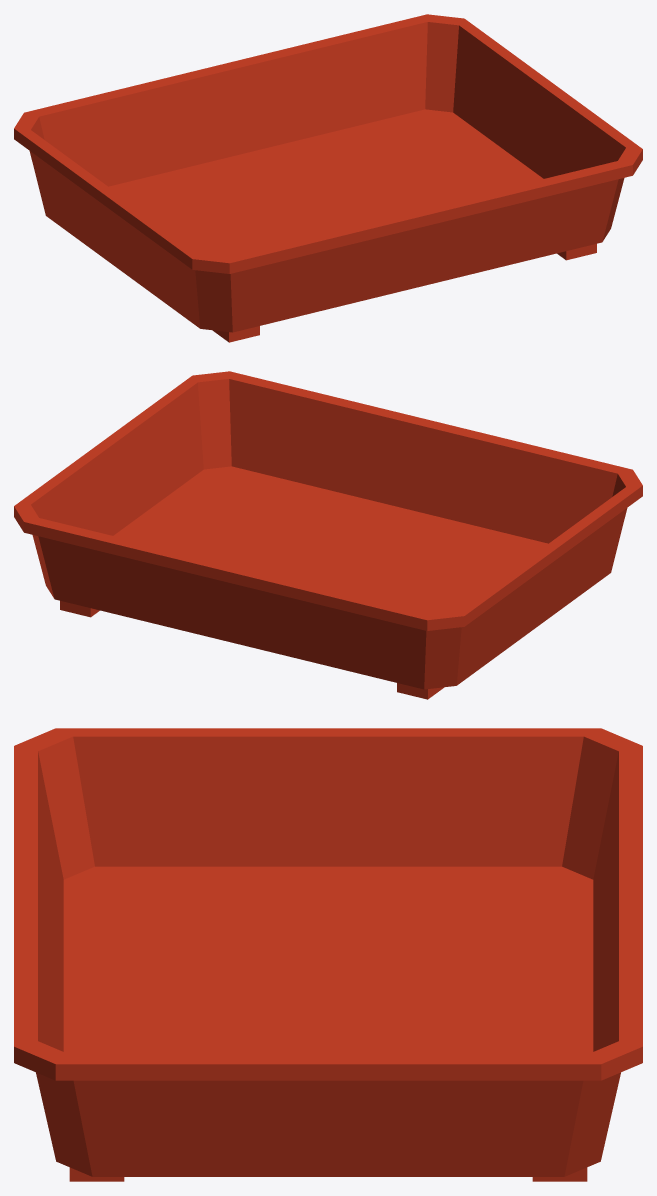
Rendered from SM_Cook_HerbTray_Red_01.glb.
3 views of the same model, one above another, from view 1: azimuth 30°, elevation 25°; view 2: azimuth 150°, elevation 25°; view 3: azimuth 270°, elevation 25° (orthographic). The views are drawn at different scales.
Visible parts, largest first — view 1: SM_Cook_HerbTray_Red_01; view 2: SM_Cook_HerbTray_Red_01; view 3: SM_Cook_HerbTray_Red_01.
Boxes of the visible parts, <box> form: SM_Cook_HerbTray_Red_01: <box>14,14,642,342</box>; SM_Cook_HerbTray_Red_01: <box>14,371,642,699</box>; SM_Cook_HerbTray_Red_01: <box>14,728,642,1181</box>.
Size of the model in its own units: 0.4374 by 0.09 by 0.346.
1 material, 1 textured.
